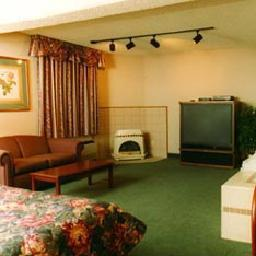Cama: (3, 187, 128, 253)
